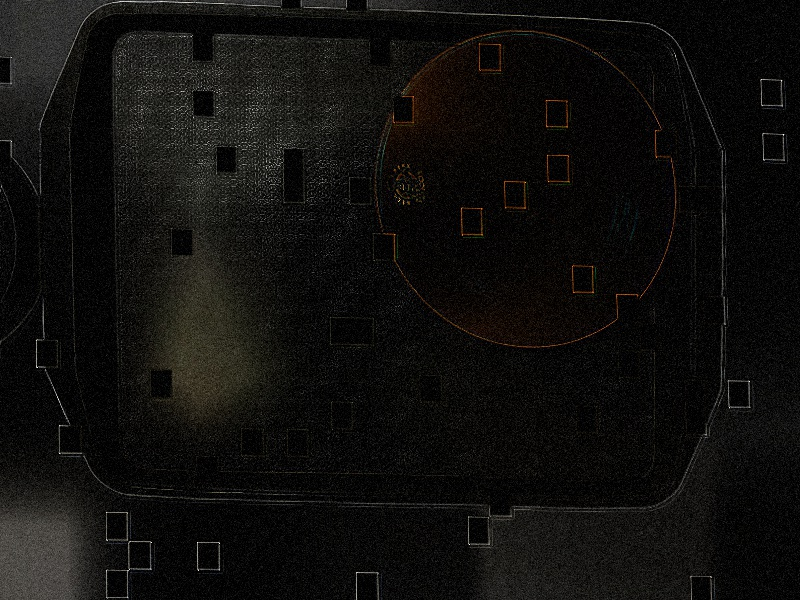dish10: (366, 26, 684, 360)
